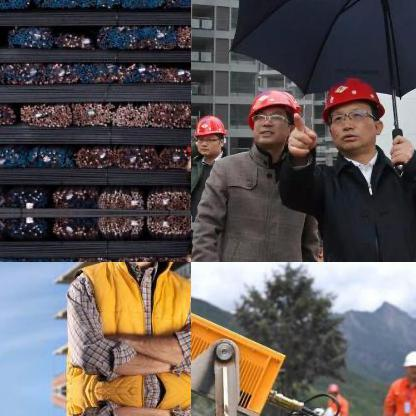Helmet: (320, 74, 384, 154), (244, 86, 304, 154), (191, 110, 227, 158), (400, 345, 415, 379), (324, 380, 342, 396)
